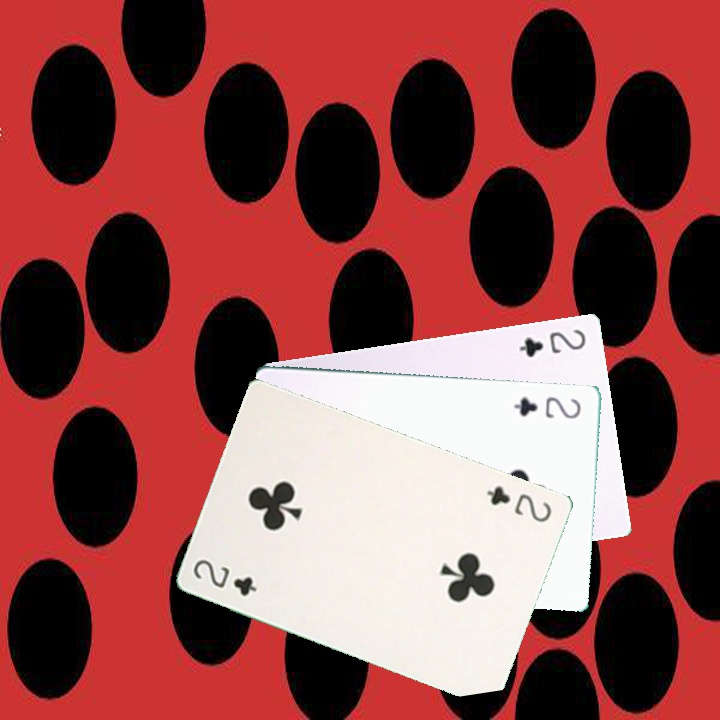2c: (482, 481, 555, 525), (189, 555, 259, 599), (515, 325, 589, 360), (510, 392, 583, 421)
